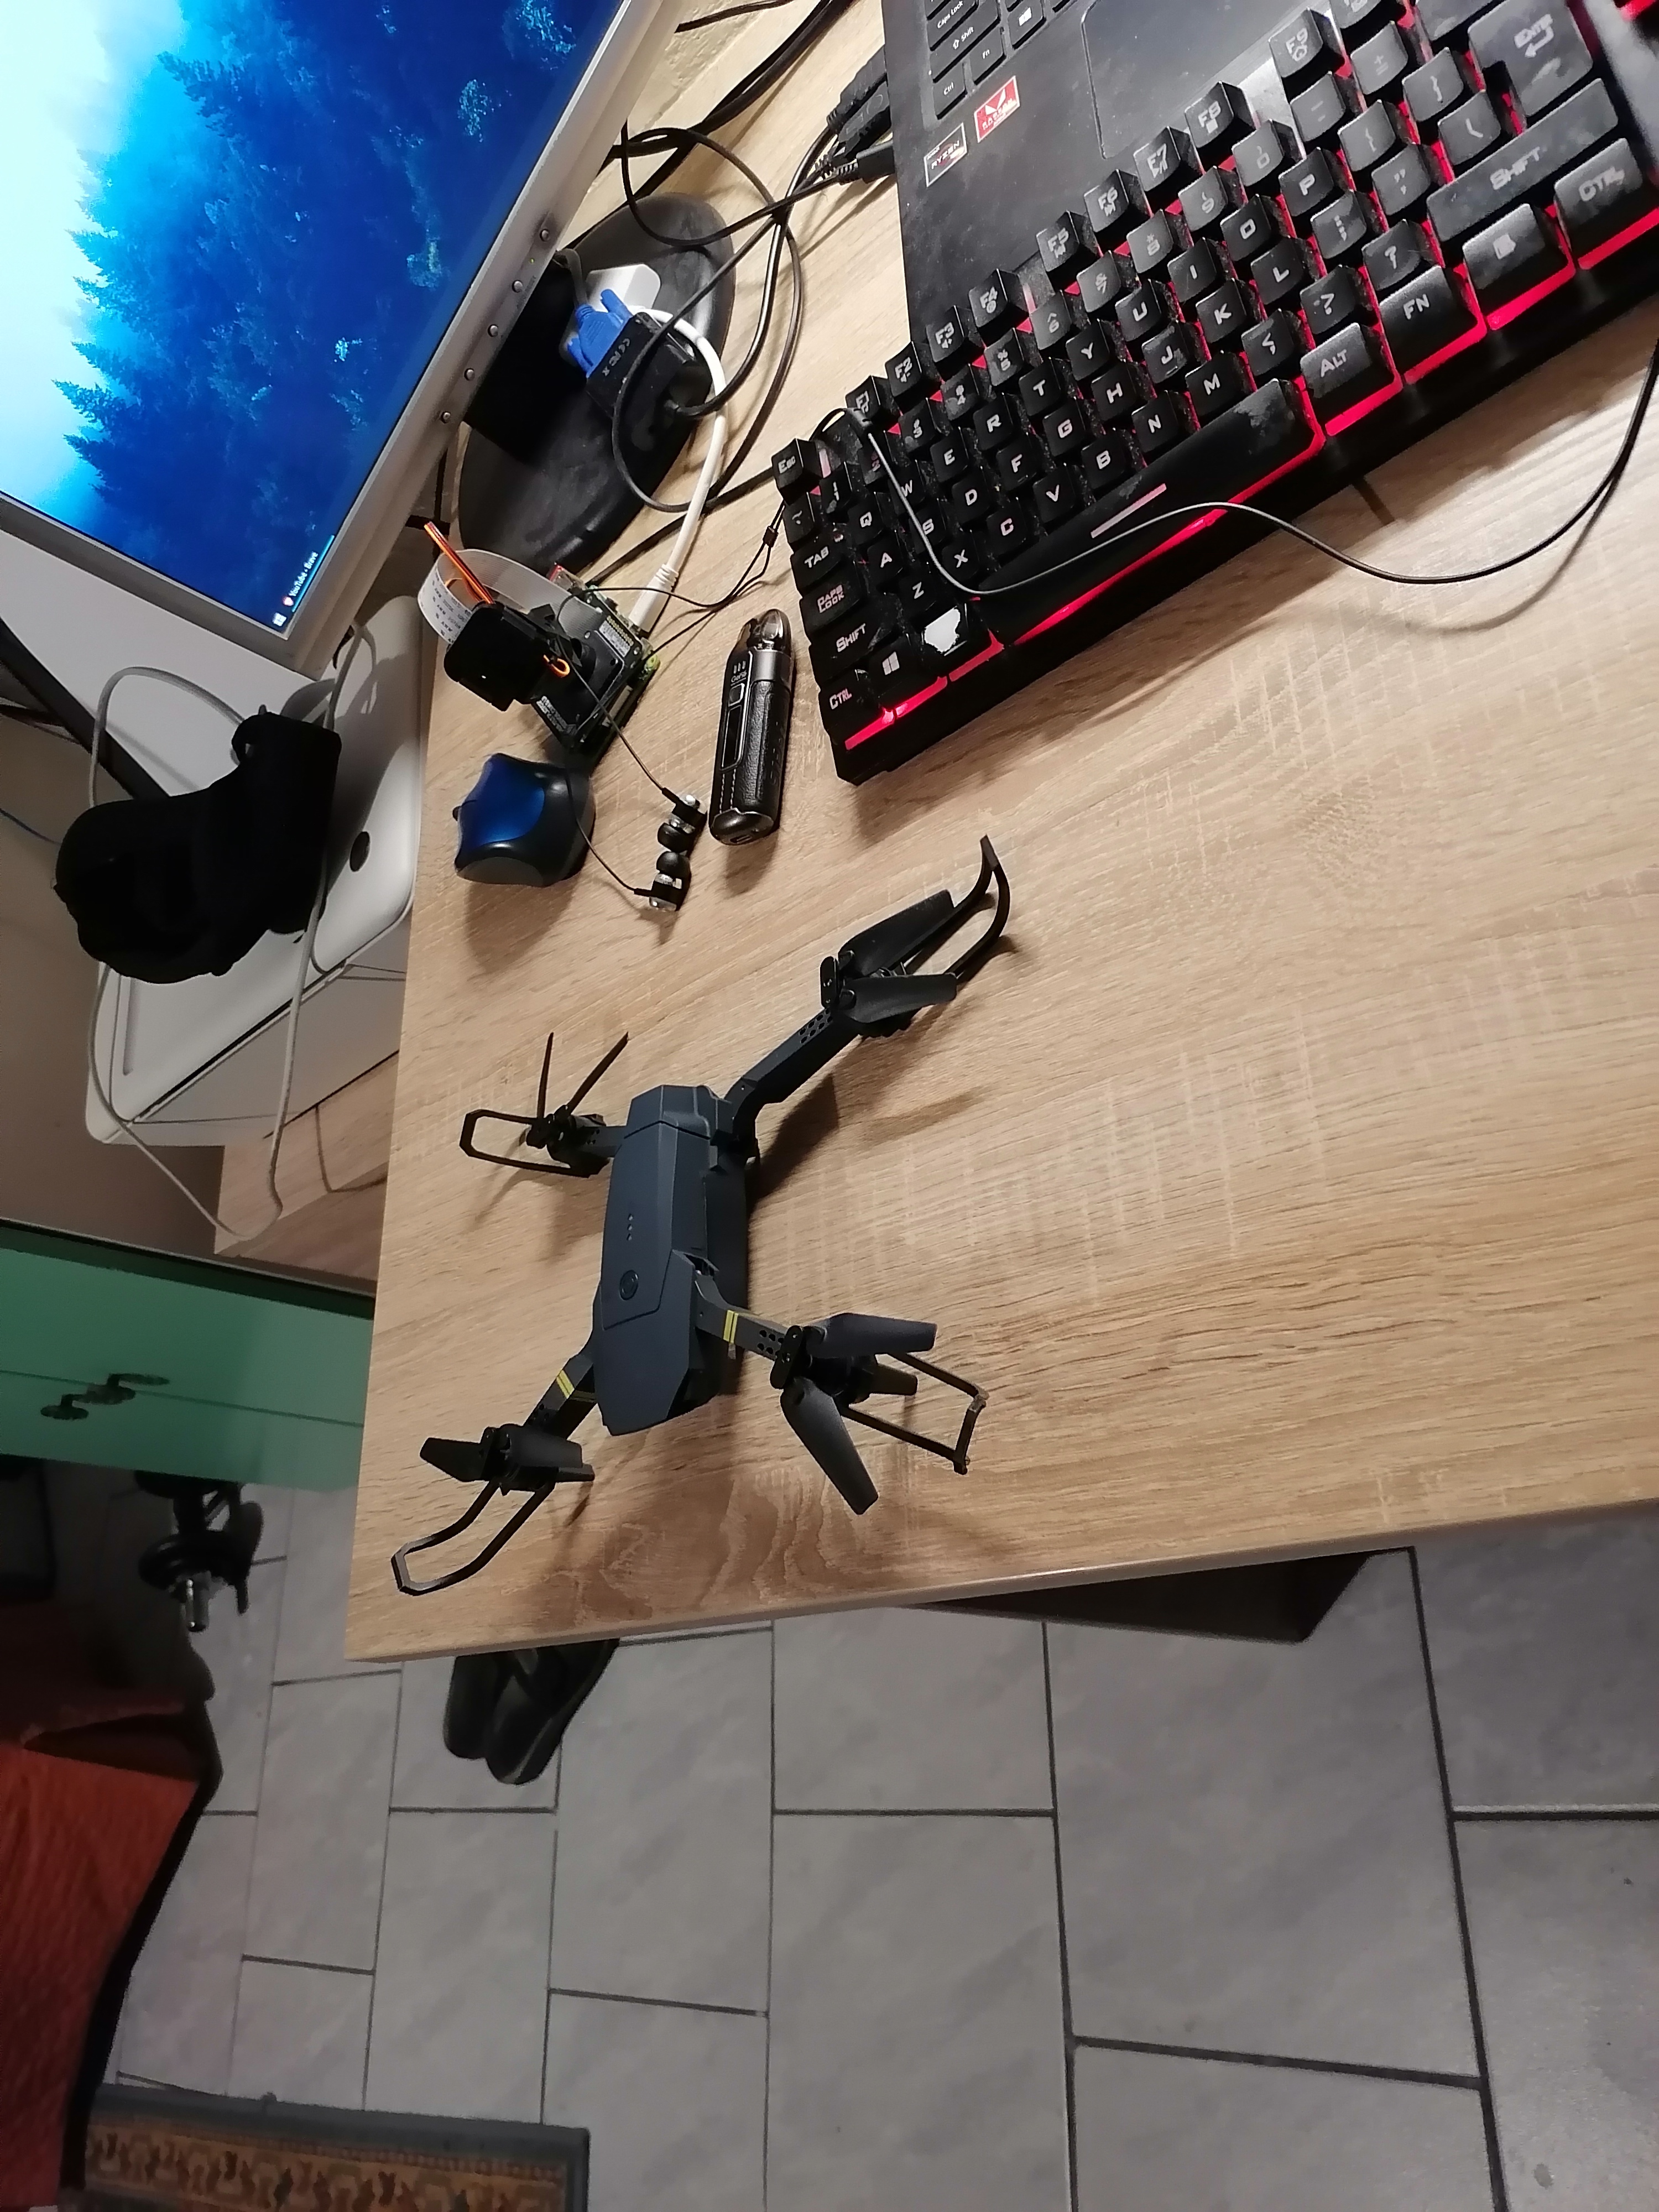drone: (354, 798, 1032, 1615)
